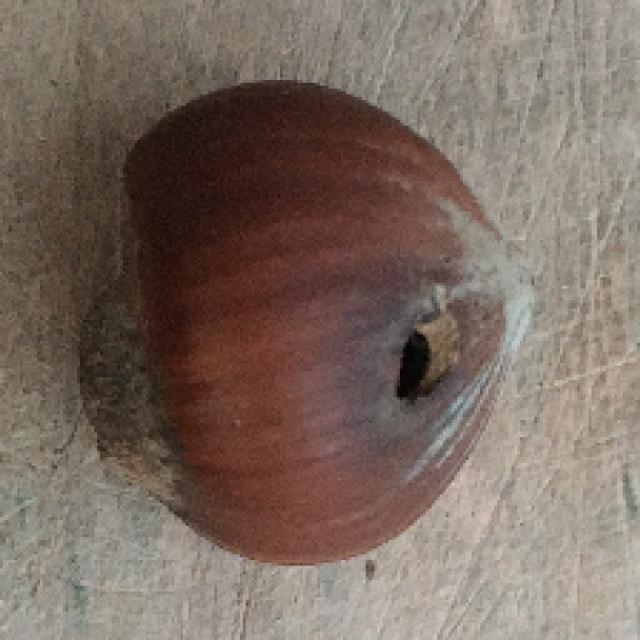damagedHazelnut: (50, 86, 537, 561)
